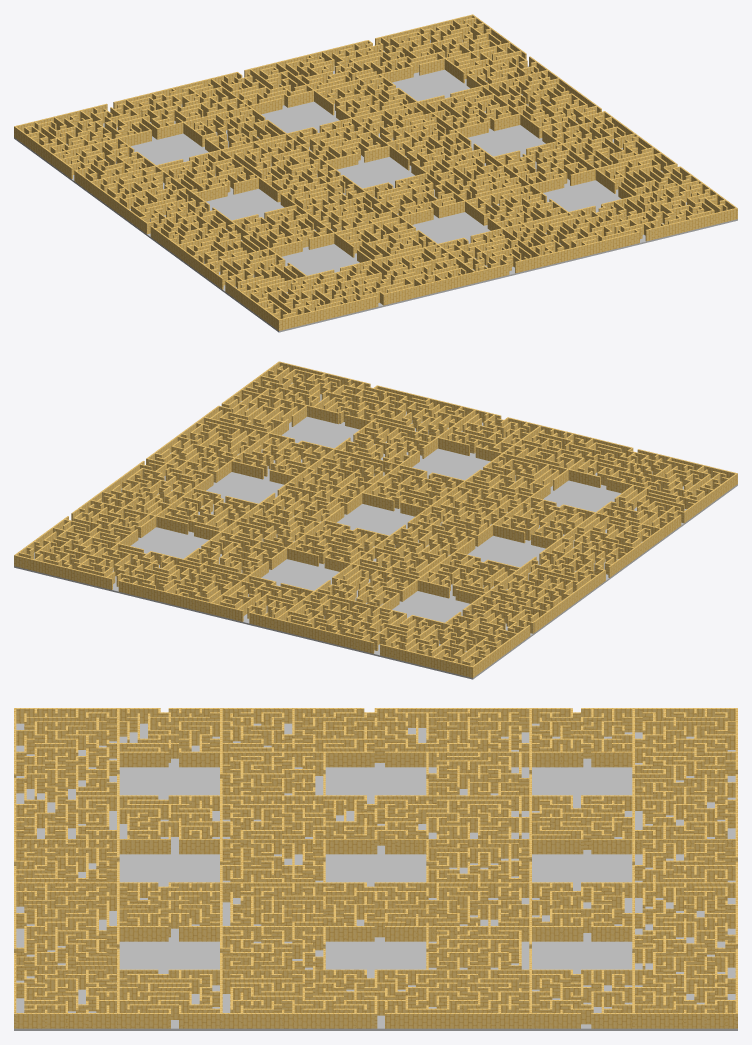
The model's file is maze.fbx.
The picture shows the model from 3 angles, top to bottom: view 1: azimuth 30°, elevation 25°; view 2: azimuth 150°, elevation 25°; view 3: azimuth 270°, elevation 25°; orthographic projection. The views are drawn at different scales.
Visible parts, largest first — view 1: Walls, Floor; view 2: Walls, Floor; view 3: Walls, Floor.
Part boxes in pixels (<box>): Walls: <box>14,14,737,330</box>; Floor: <box>14,39,737,332</box>; Walls: <box>14,361,737,677</box>; Floor: <box>14,375,737,679</box>; Walls: <box>14,708,737,1028</box>; Floor: <box>14,723,737,1030</box>.
Size of the model in its own units: 27383 by 701 by 27386.
